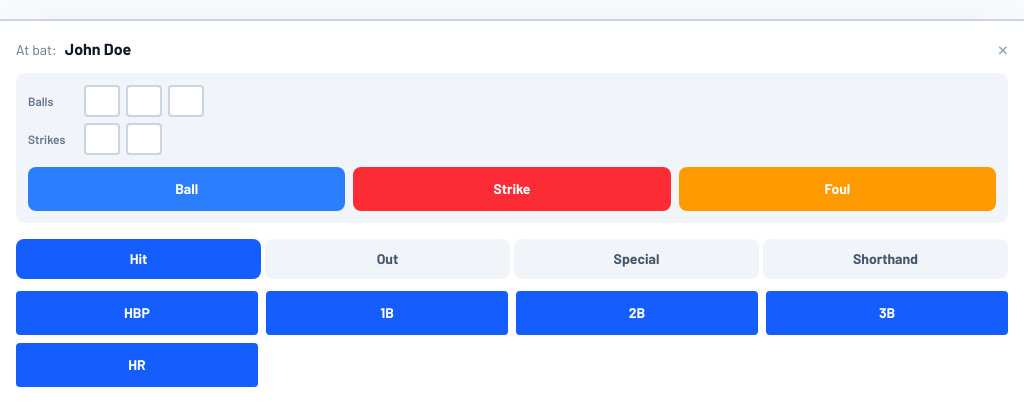
Scenario: PlayEntryPanel › switches to Shorthand tab and shows text input
What coordinates should you click on to do the following:
click the button "Shorthand"
I would click on:
 (886, 259)
Its box is [763,239,1008,279].
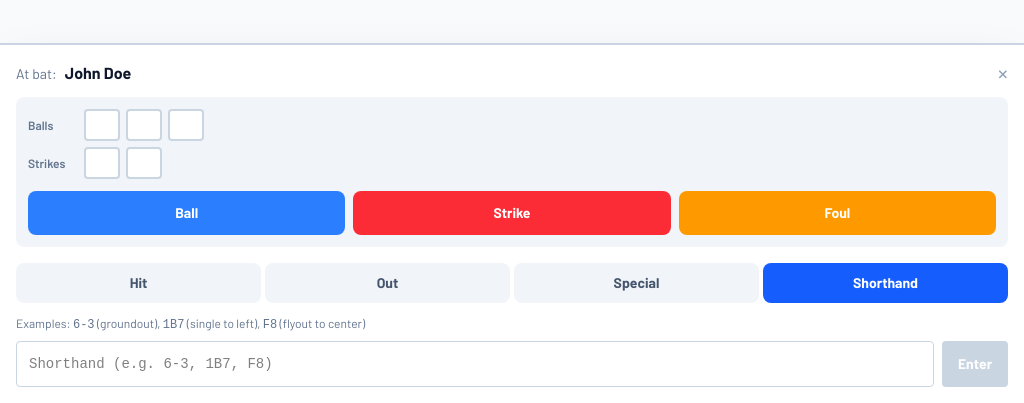
Result: the field with placeholder "Shorthand (e.g. 6-3, 1B7, F8)" is shown at [16,341,934,387]
